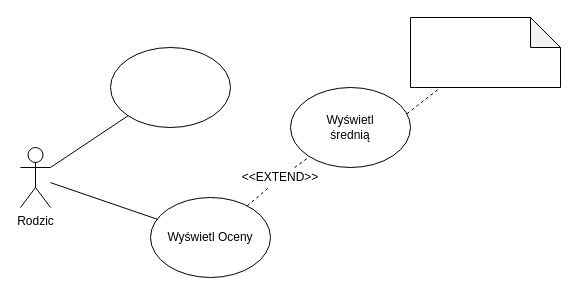
Some shapes in this 578 by 295 pixel diagram are drawn without their labels. The centre of each missing label's shape, as x and y in pixels:
"Warunek: Musi być jakaś ocena" belongs at point (485, 52).
"Wybierz przedmiot lub zestawienie ogólne" belongs at point (170, 87).
